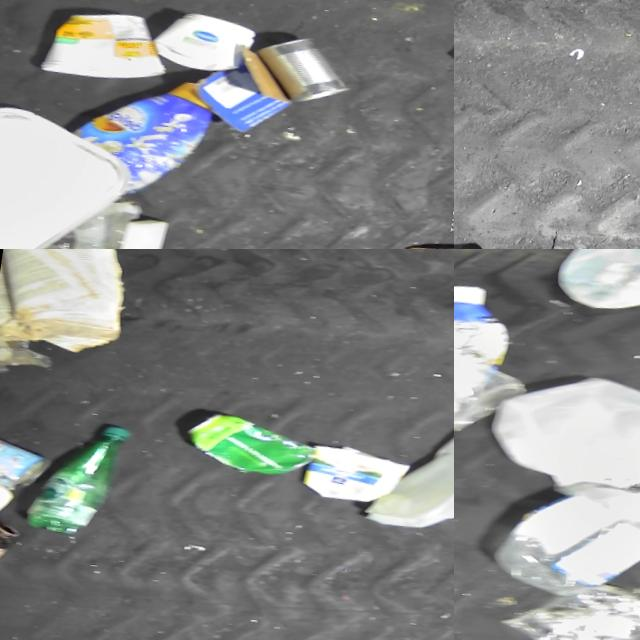can: (180, 407, 320, 496), (248, 35, 356, 121), (0, 443, 59, 500)
milk_jug: (480, 357, 640, 516), (361, 406, 454, 554), (546, 249, 640, 333)
plastic_bottle: (483, 454, 640, 624), (17, 411, 138, 549)
